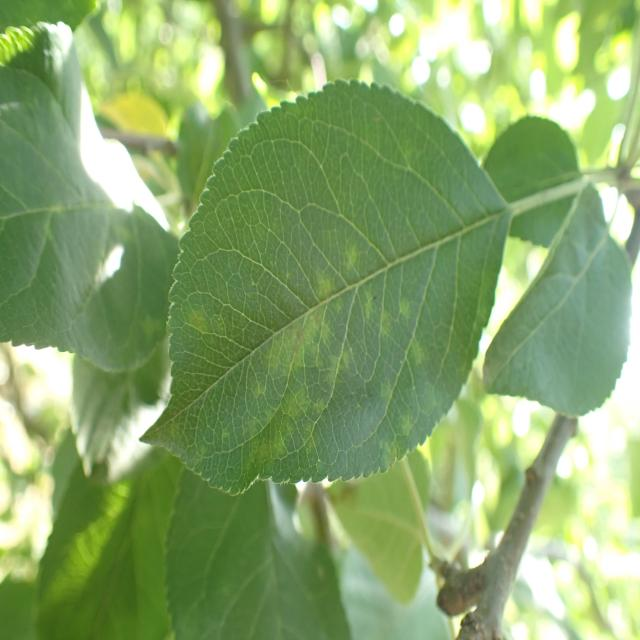scab: (174, 250, 476, 484)
